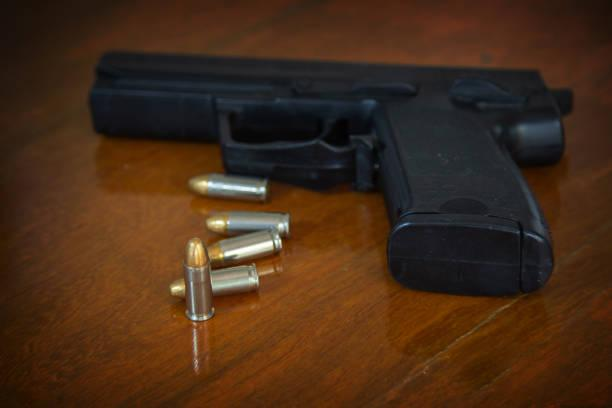weapon: (89, 45, 573, 297)
